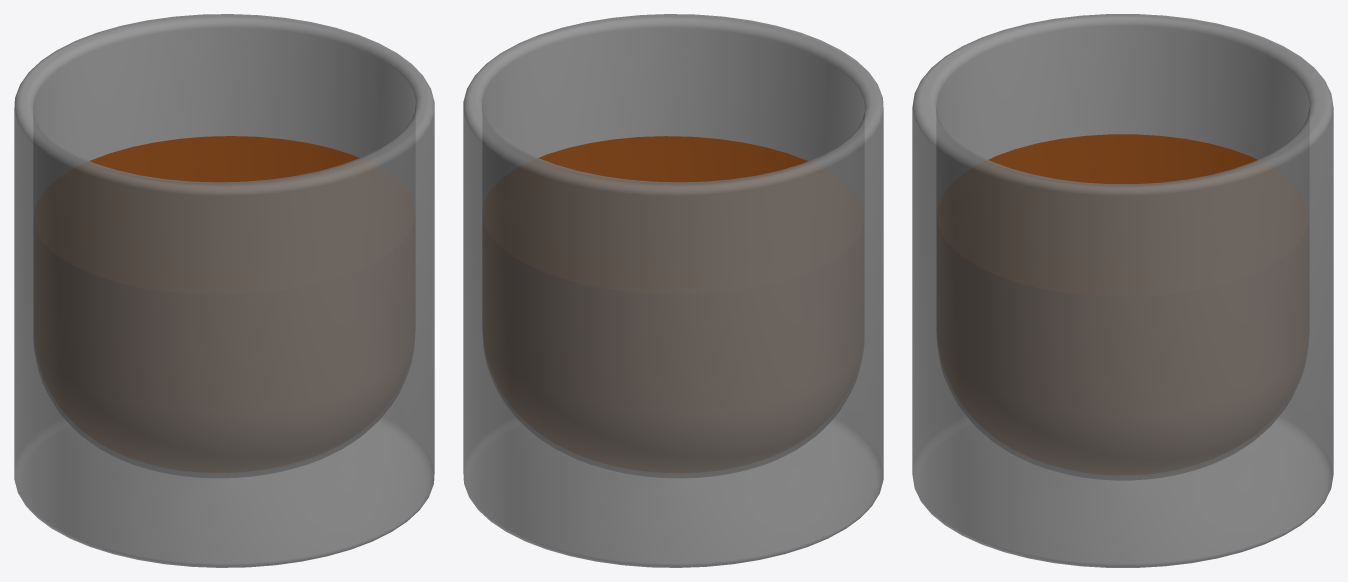
File: glass_whisky_test.glb
3 views of the same model, side by side, from view 1: azimuth 30°, elevation 25°; view 2: azimuth 150°, elevation 25°; view 3: azimuth 270°, elevation 25° (orthographic).
Visible parts, largest first — view 1: Object_3, Object_2; view 2: Object_3, Object_2; view 3: Object_3, Object_2.
Part boxes in pixels (box(x1,y1,x2,y2)): Object_3: box(14, 14, 434, 567); Object_2: box(89, 136, 359, 182); Object_3: box(463, 14, 883, 567); Object_2: box(538, 136, 808, 182); Object_3: box(912, 14, 1333, 567); Object_2: box(988, 134, 1257, 183).
Bounding box in the file's own units: 8.74 × 8.76 × 8.76.
2 materials, 2 textured.
